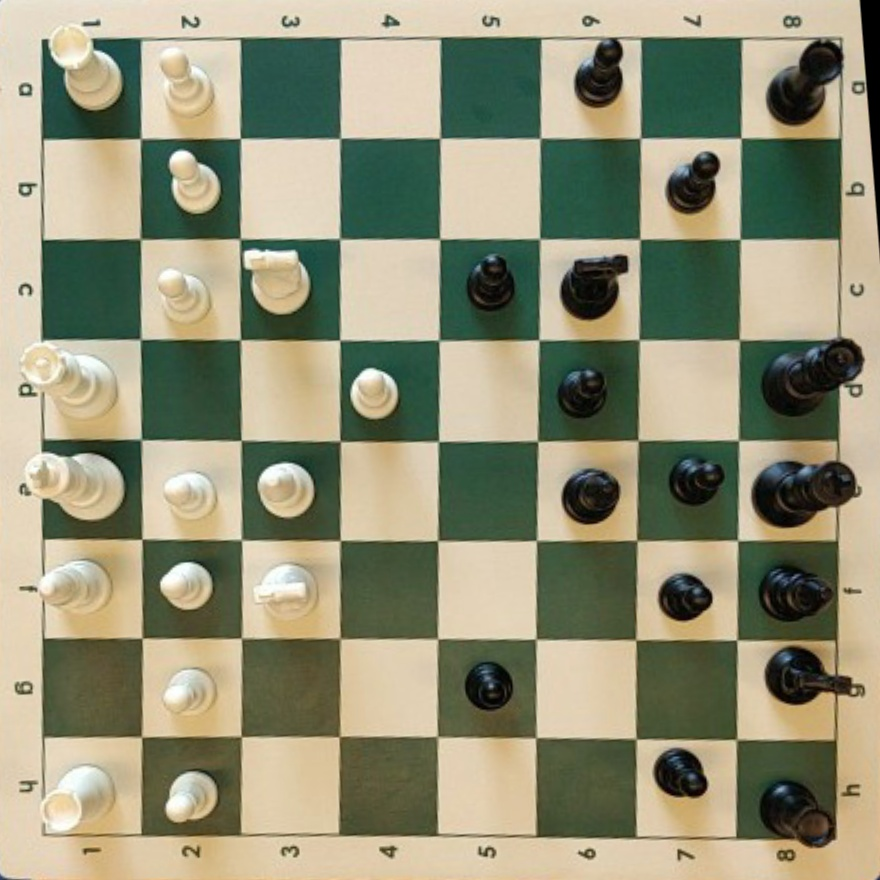black-bishop: (760, 565, 834, 621), (563, 468, 620, 523)
black-king: (754, 460, 858, 526)
black-knight: (766, 647, 865, 704), (560, 254, 629, 319)
black-pawn: (575, 37, 624, 105), (668, 151, 720, 212), (670, 455, 725, 504), (654, 749, 708, 798), (467, 254, 515, 309), (659, 573, 713, 621), (559, 367, 607, 417), (465, 661, 513, 710)
black-queen: (764, 339, 864, 414)
black-rook: (767, 39, 842, 124), (760, 779, 834, 847)
white-bishop: (37, 559, 111, 612), (257, 462, 315, 518)
white-king: (20, 451, 124, 521)
white-knight: (245, 252, 310, 314), (254, 563, 316, 619)
white-pawn: (160, 49, 214, 117), (167, 149, 221, 214), (157, 268, 211, 324), (164, 770, 218, 823), (159, 561, 213, 610), (163, 470, 216, 519), (350, 368, 398, 418), (163, 667, 214, 714)
white-queen: (19, 344, 118, 418)
white-rook: (49, 28, 123, 112), (40, 764, 114, 834)
